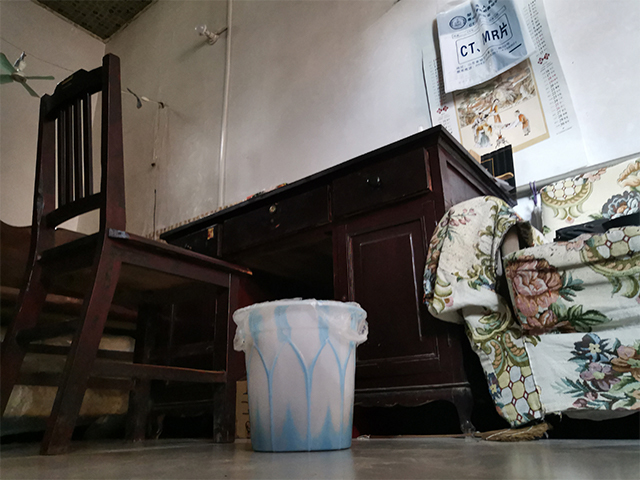cabinet: (142, 122, 520, 437)
sofa: (421, 156, 640, 443)
stool: (1, 50, 256, 457)
trashcan: (229, 294, 371, 454)
